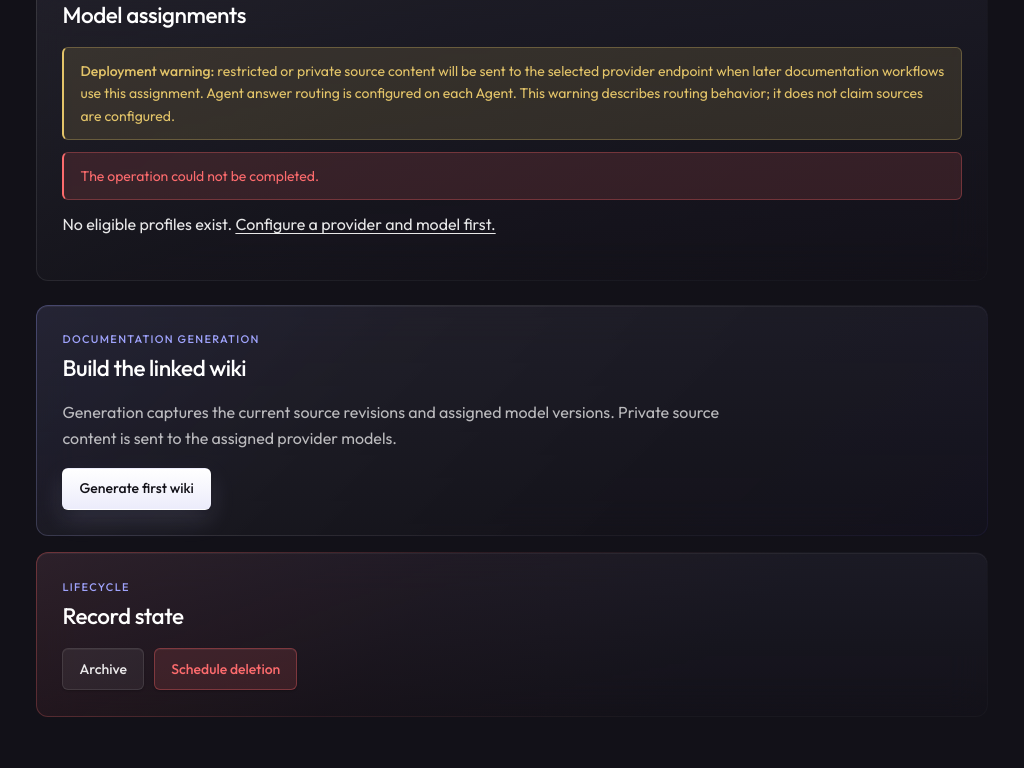
scheduled deletion exposes the purge job returned by the API
(page scrolled)
Click the button "Schedule deletion": (226, 669) x1=154 y1=648 x2=297 y2=690
(page scrolled)
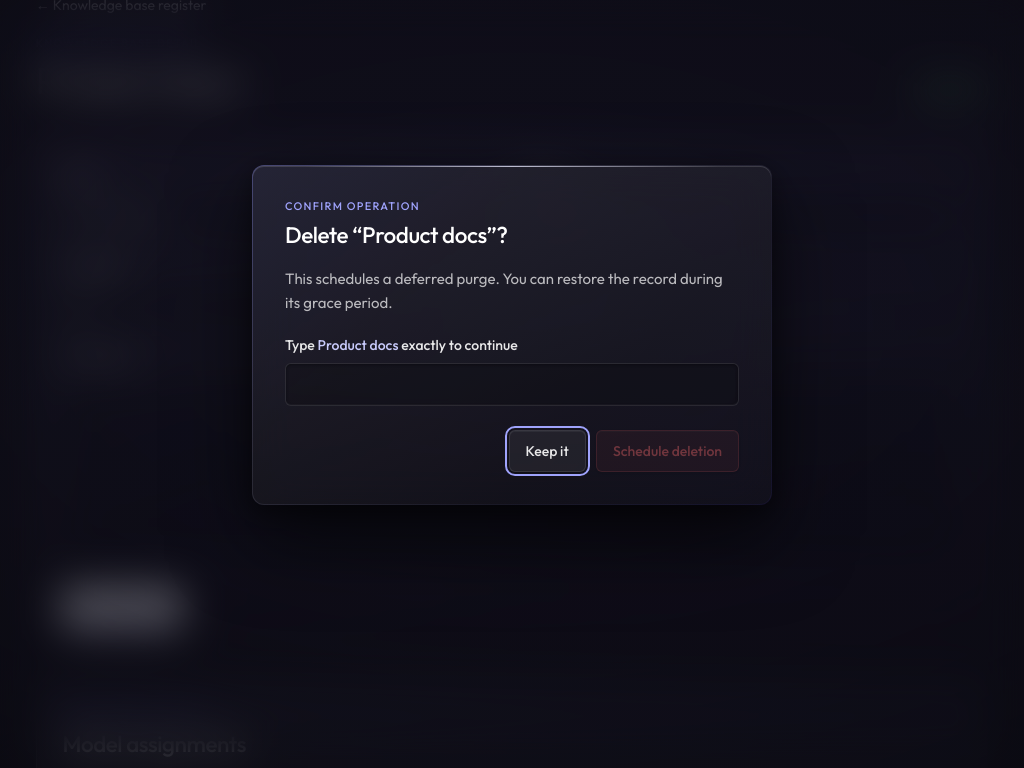
In the field labelled "Type Product docs exactly to continue": (512, 385) x1=285 y1=363 x2=739 y2=406, type "Product docs"
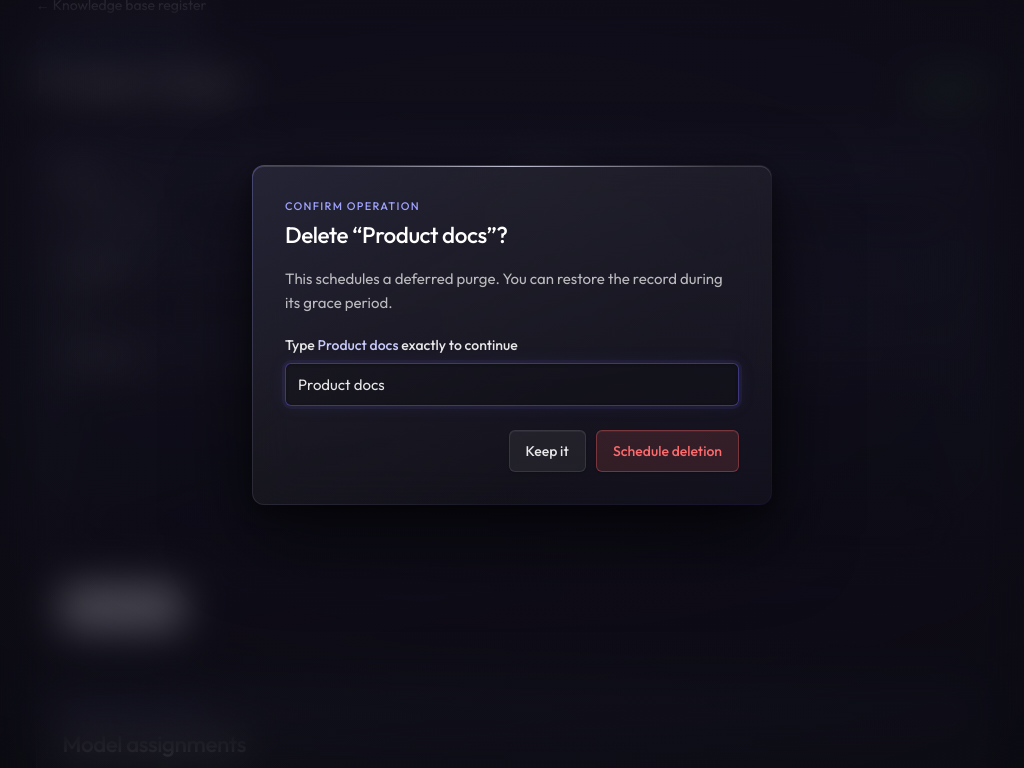
Click the button "Schedule deletion": (668, 451) x1=596 y1=430 x2=739 y2=472
(page scrolled)
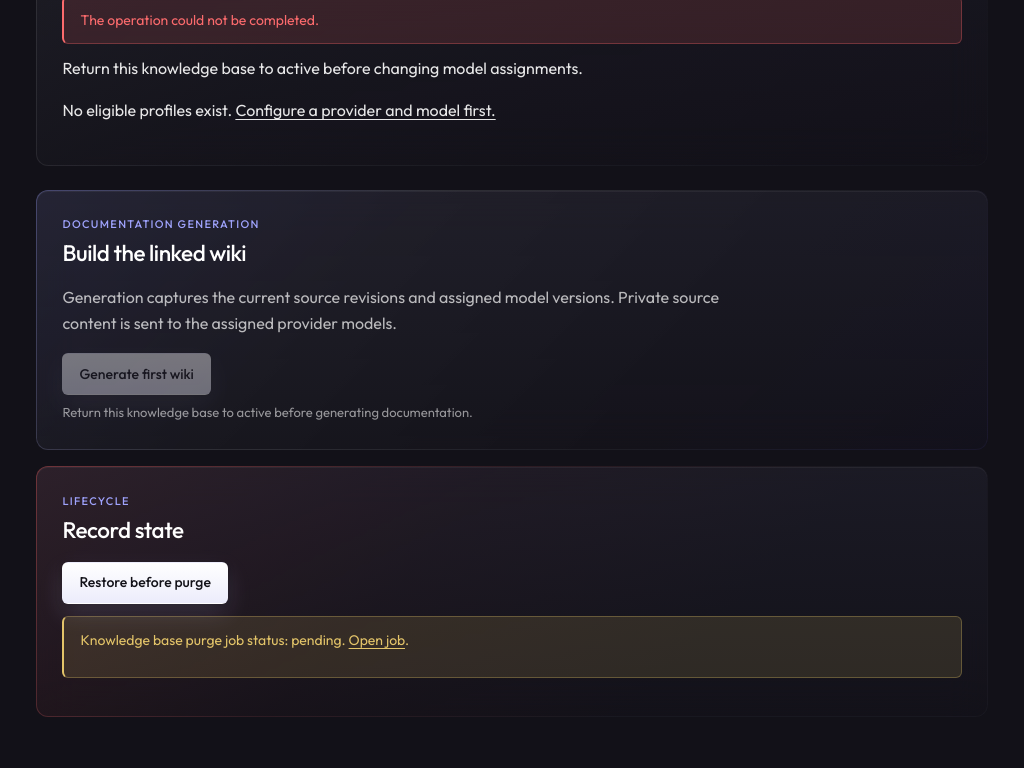
Check: the text "Knowledge base purge job status: pending. Open job ." is shown, box x1=80 y1=631 x2=409 y2=649
